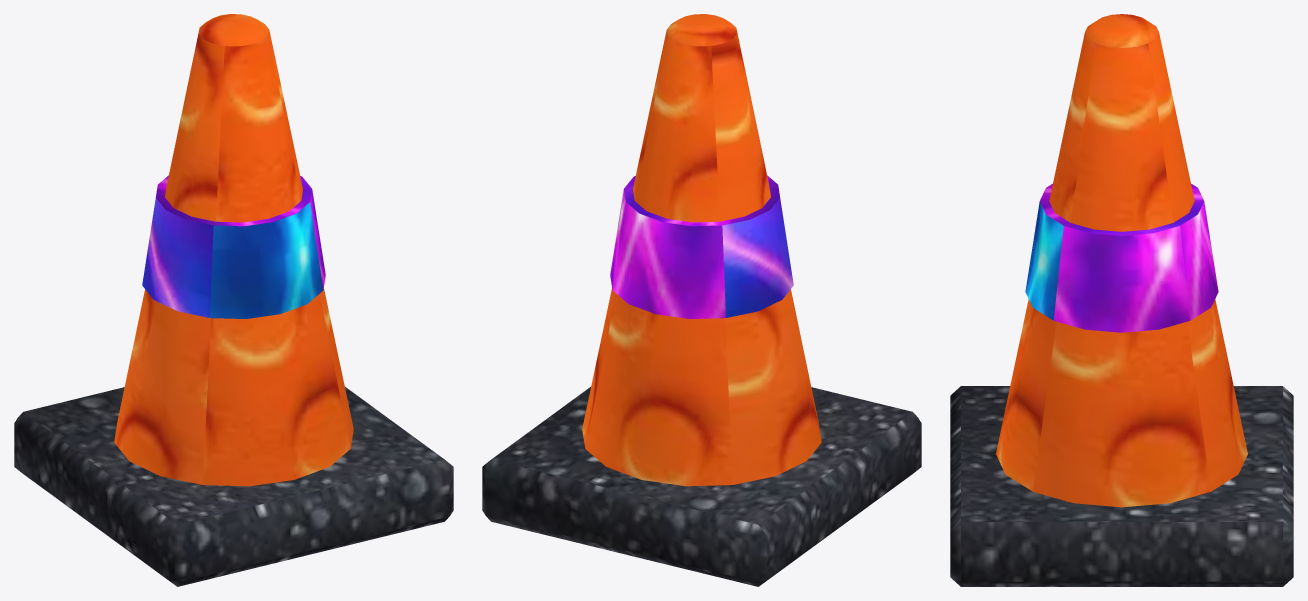
Rendered from deco_neon_flora.glb.
3 renders of one model, left to right at view 1: azimuth 30°, elevation 25°; view 2: azimuth 150°, elevation 25°; view 3: azimuth 270°, elevation 25°, orthographic. The views are drawn at different scales.
Parts seen in each view (by area): view 1: deco_neon_flora; view 2: deco_neon_flora; view 3: deco_neon_flora.
Part boxes in pixels (x1=…): deco_neon_flora: x1=14, y1=14, x2=453, y2=586; deco_neon_flora: x1=482, y1=14, x2=921, y2=586; deco_neon_flora: x1=950, y1=14, x2=1293, y2=586.
Size of the model in its own units: 0.6316 by 1 by 0.6316.
Materials: 3 (3 with a texture image).
